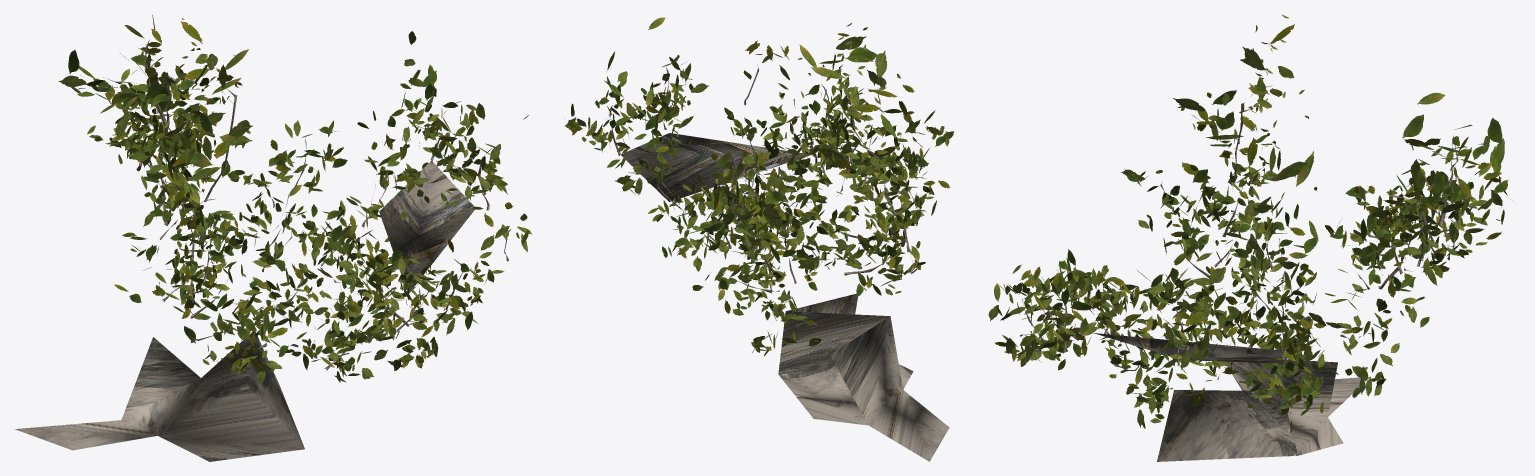
The model's file is elm.glb.
3 views of the same model, side by side, from view 1: azimuth 30°, elevation 25°; view 2: azimuth 150°, elevation 25°; view 3: azimuth 270°, elevation 25° (orthographic). The views are drawn at different scales.
Parts seen in each view (by area): view 1: lod1; view 2: lod1; view 3: lod1.
Part boxes in pixels (bbox=[...]): lod1: bbox=[14, 15, 532, 461]; lod1: bbox=[564, 17, 953, 461]; lod1: bbox=[988, 14, 1509, 461].
Bounding box in the file's own units: 18.08 × 16.51 × 18.79.
Materials: 3 (3 with a texture image).
